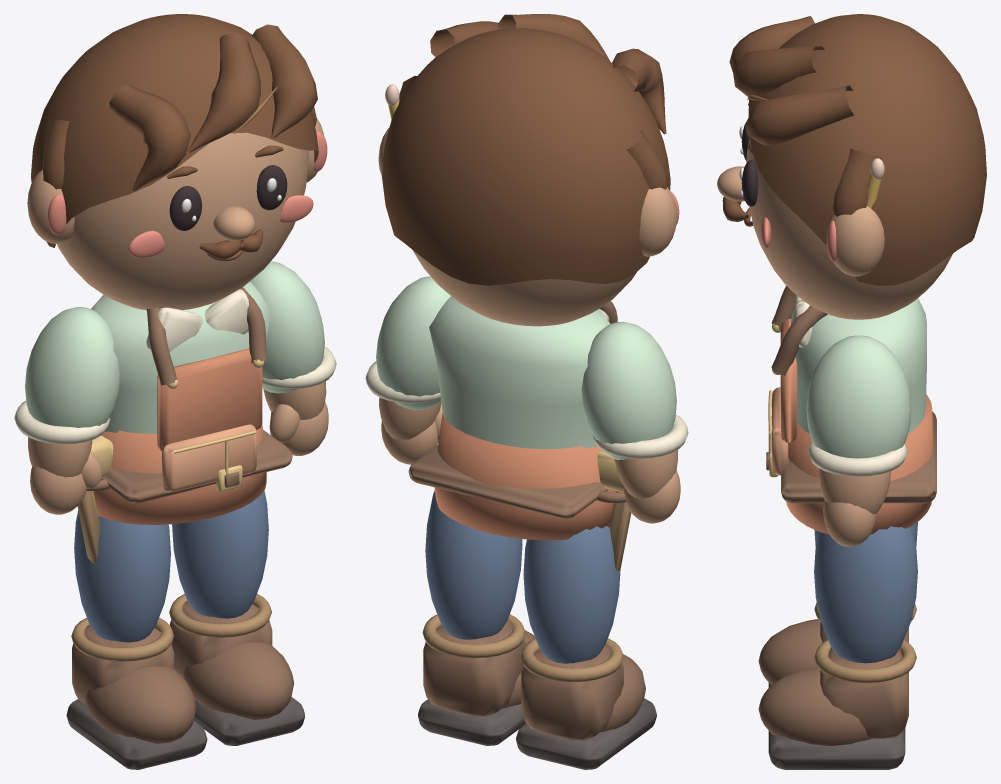
The model's file is Amu.fbx.
The picture shows the model from 3 angles, left to right: view 1: azimuth 30°, elevation 25°; view 2: azimuth 150°, elevation 25°; view 3: azimuth 270°, elevation 25°; orthographic projection.
Parts seen in each view (by area): view 1: Amu_BodyMesh, Amu_LeftLegMesh, Amu_RightLegMesh, Amu_LeftArmMesh, Amu_RightArmMesh; view 2: Amu_BodyMesh, Amu_LeftLegMesh, Amu_RightLegMesh, Amu_LeftArmMesh, Amu_RightArmMesh; view 3: Amu_BodyMesh, Amu_RightLegMesh, Amu_RightArmMesh, Amu_LeftLegMesh.
Boxes of the visible parts, x1=… form: Amu_BodyMesh: x1=27, y1=14, x2=327, y2=563; Amu_LeftLegMesh: x1=66, y1=510, x2=207, y2=769; Amu_RightLegMesh: x1=169, y1=490, x2=304, y2=745; Amu_LeftArmMesh: x1=14, y1=307, x2=119, y2=514; Amu_RightArmMesh: x1=250, y1=261, x2=336, y2=455; Amu_BodyMesh: x1=378, y1=14, x2=679, y2=571; Amu_LeftLegMesh: x1=516, y1=526, x2=656, y2=769; Amu_RightLegMesh: x1=418, y1=491, x2=534, y2=745; Amu_LeftArmMesh: x1=581, y1=321, x2=688, y2=523; Amu_RightArmMesh: x1=365, y1=276, x2=450, y2=464; Amu_BodyMesh: x1=717, y1=14, x2=986, y2=534; Amu_RightLegMesh: x1=758, y1=526, x2=917, y2=769; Amu_RightArmMesh: x1=806, y1=335, x2=911, y2=546; Amu_LeftLegMesh: x1=758, y1=522, x2=917, y2=687.
Bounding box in the file's own units: 1.03 × 2.22 × 0.7737.
